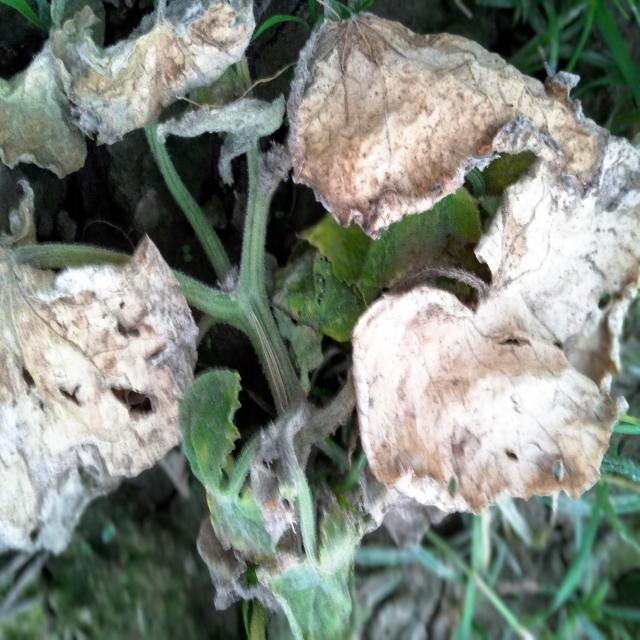Anthracnose: (1, 39, 89, 187)
Bacterial-Wilt: (347, 134, 640, 515), (0, 181, 203, 563), (284, 9, 610, 242), (46, 0, 258, 147)
